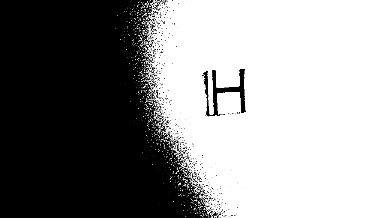H: (206, 69, 249, 115)
